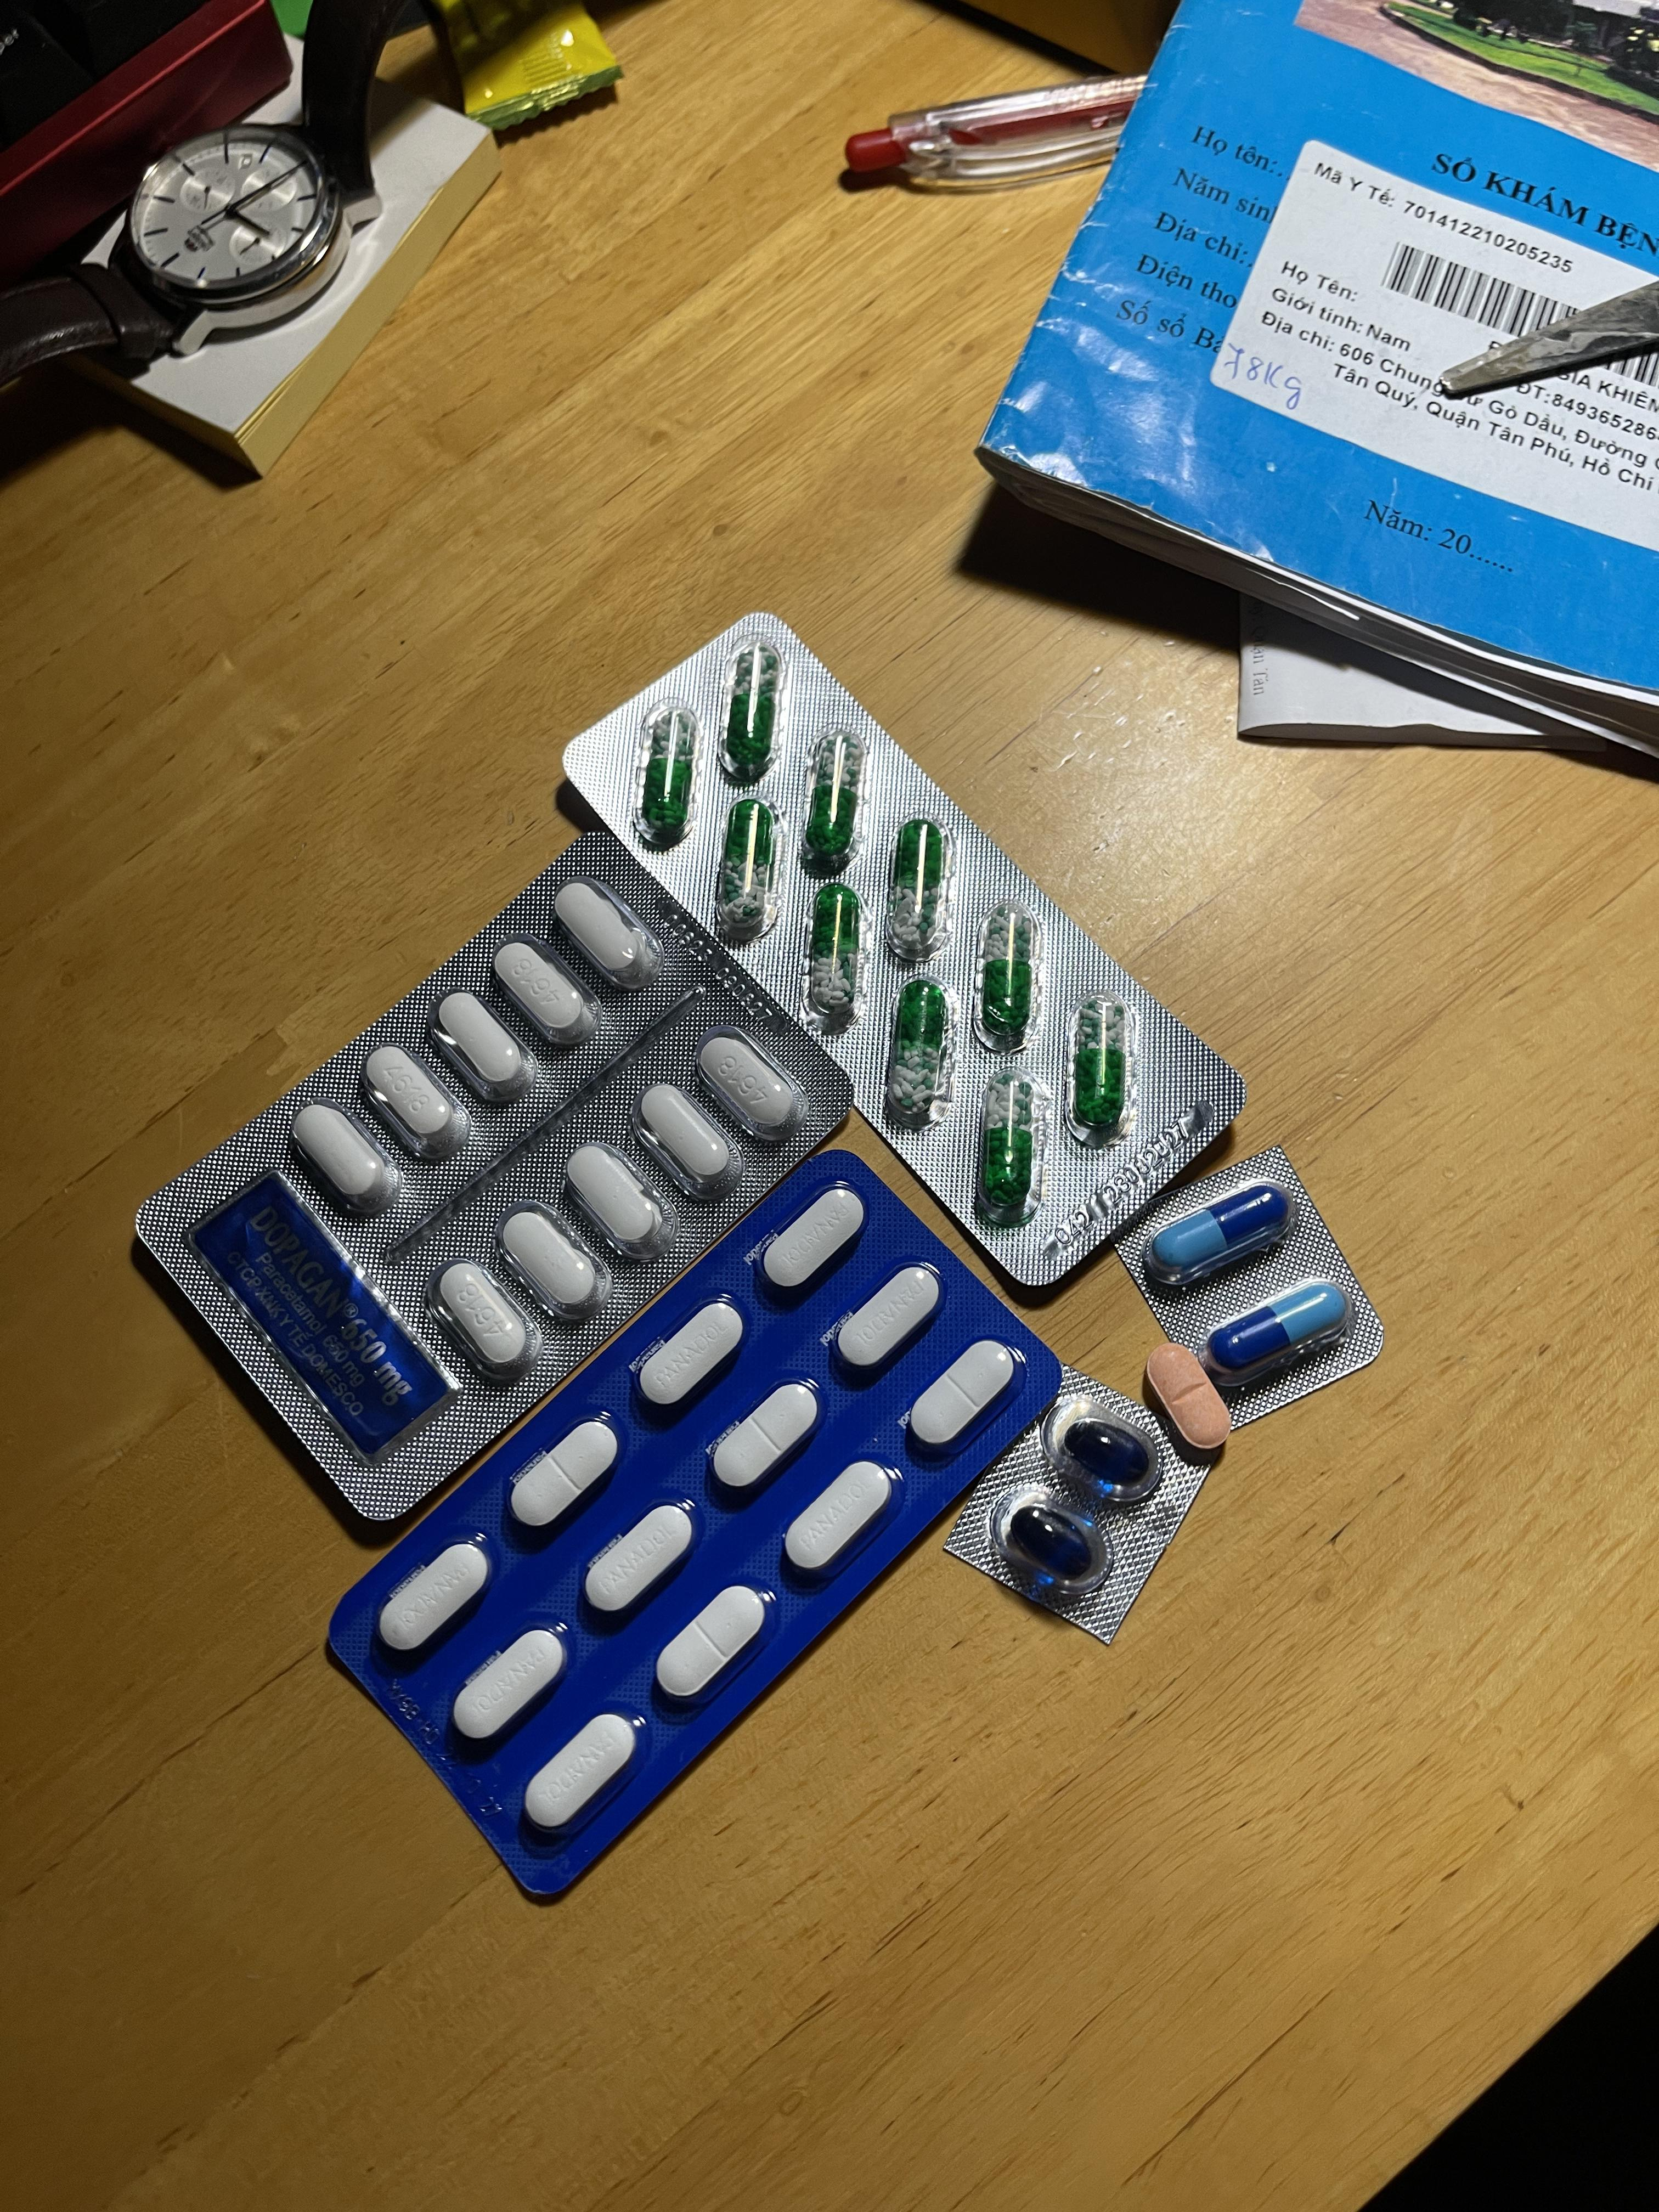Lincomyxin_500mg: (1011, 1505, 1093, 1576), (1068, 1418, 1150, 1486)
Loratadine_10mg: (1148, 1345, 1230, 1453)
Paracetamol_350mg: (525, 1712, 640, 1832), (453, 1625, 566, 1742), (904, 1338, 1018, 1449), (582, 1501, 694, 1615), (659, 1585, 770, 1698), (378, 1540, 490, 1653), (636, 1299, 749, 1407), (784, 1463, 892, 1576), (711, 1379, 821, 1489), (512, 1416, 619, 1527), (760, 1186, 866, 1287), (847, 1275, 925, 1350)
Paracetamol_500mg: (352, 1045, 471, 1162), (491, 946, 605, 1057), (695, 1033, 805, 1143), (554, 878, 662, 988), (498, 1209, 606, 1315), (563, 1139, 667, 1247), (437, 991, 542, 1096), (439, 1270, 540, 1374), (636, 1087, 739, 1188), (295, 1103, 392, 1204)
Paracetamol_650mg: (802, 728, 868, 869), (887, 981, 951, 1123), (976, 1085, 1042, 1217), (636, 707, 701, 843), (720, 648, 786, 777), (976, 902, 1037, 1040), (887, 820, 948, 956), (1070, 996, 1129, 1132), (716, 798, 777, 928), (807, 885, 864, 1017)
pill: (1154, 1186, 1288, 1278), (1215, 1285, 1347, 1371)
